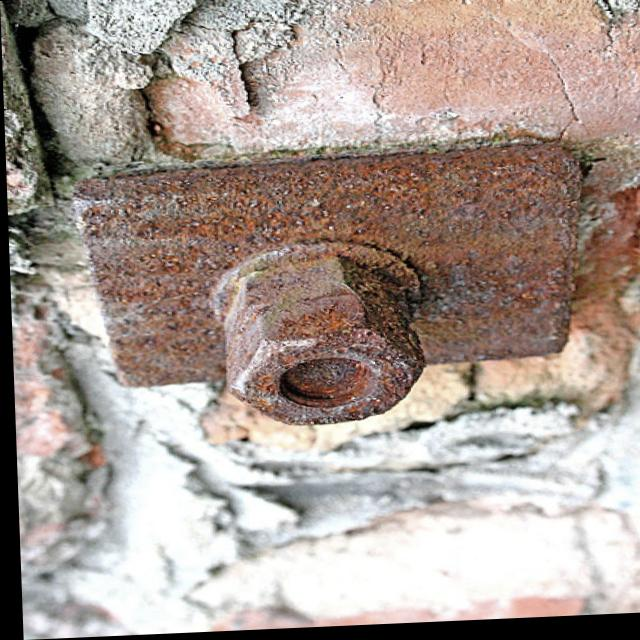Rusty bolt: (223, 298, 429, 433), (225, 255, 401, 327)
